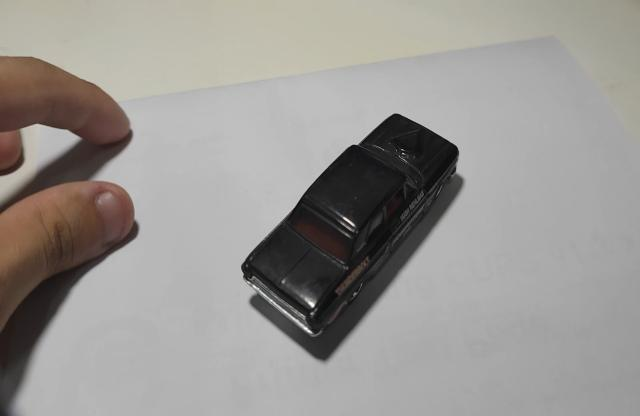01_FORD: (240, 114, 465, 364)
